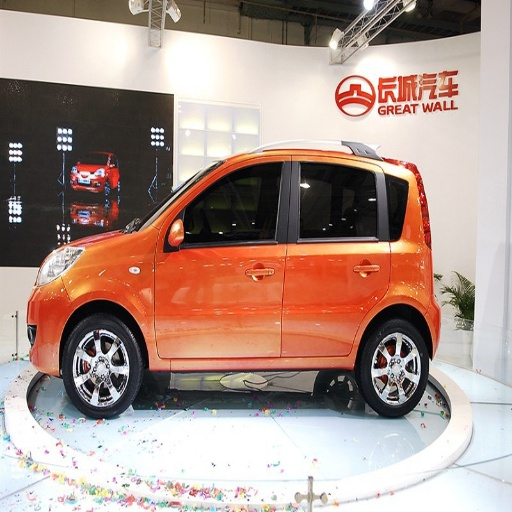front_left_door: (155, 153, 291, 367)
